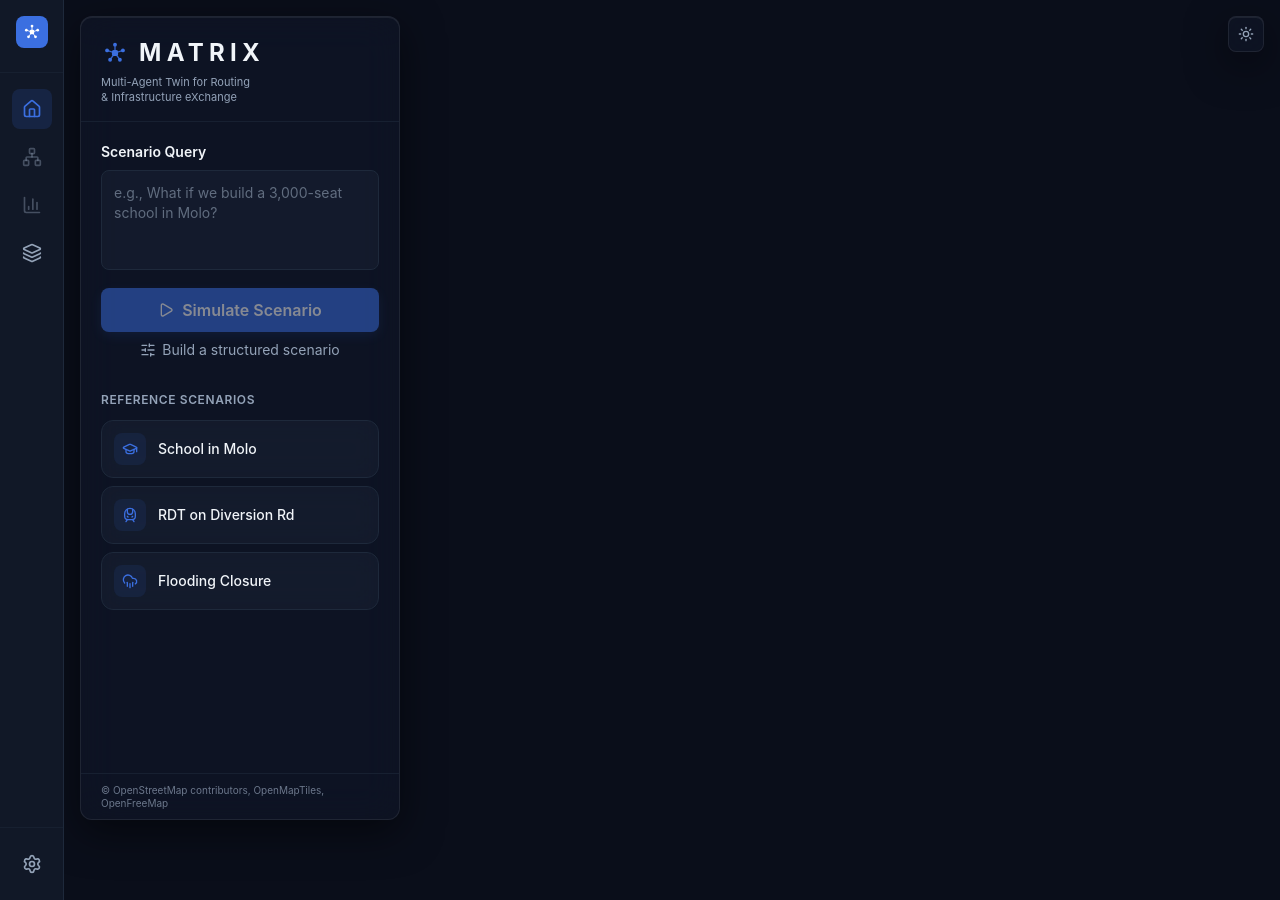
Scenario: MatrixCockpit scenario submission › shows a loading state while the request is in flight
The image size is (1280, 900).
Type "Close one lane on Diversion Road" into the text box labelled "Scenario Query" at (240, 220), box [101,170,379,270]
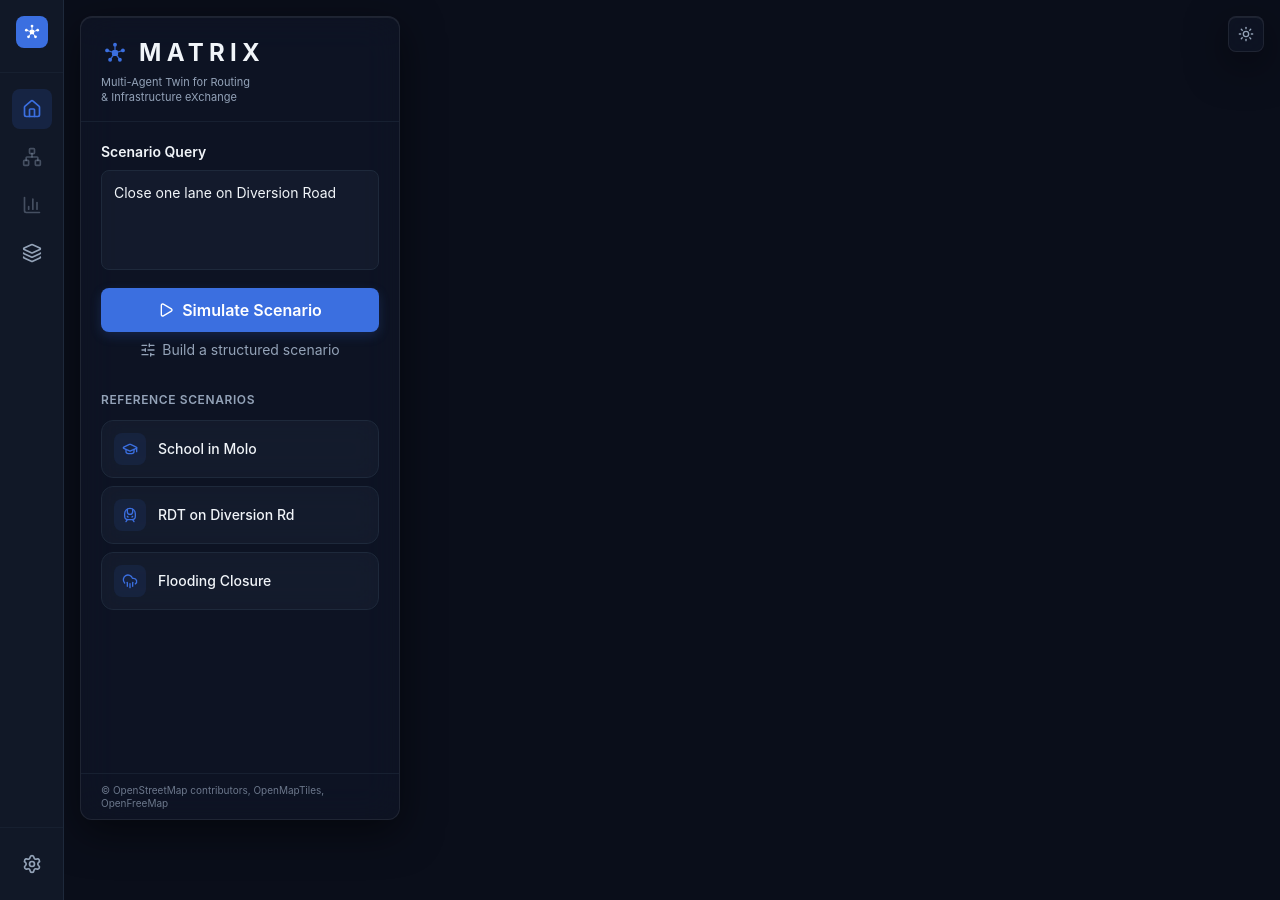
Click the button "Simulate Scenario" at (240, 310), box [101,288,379,332]
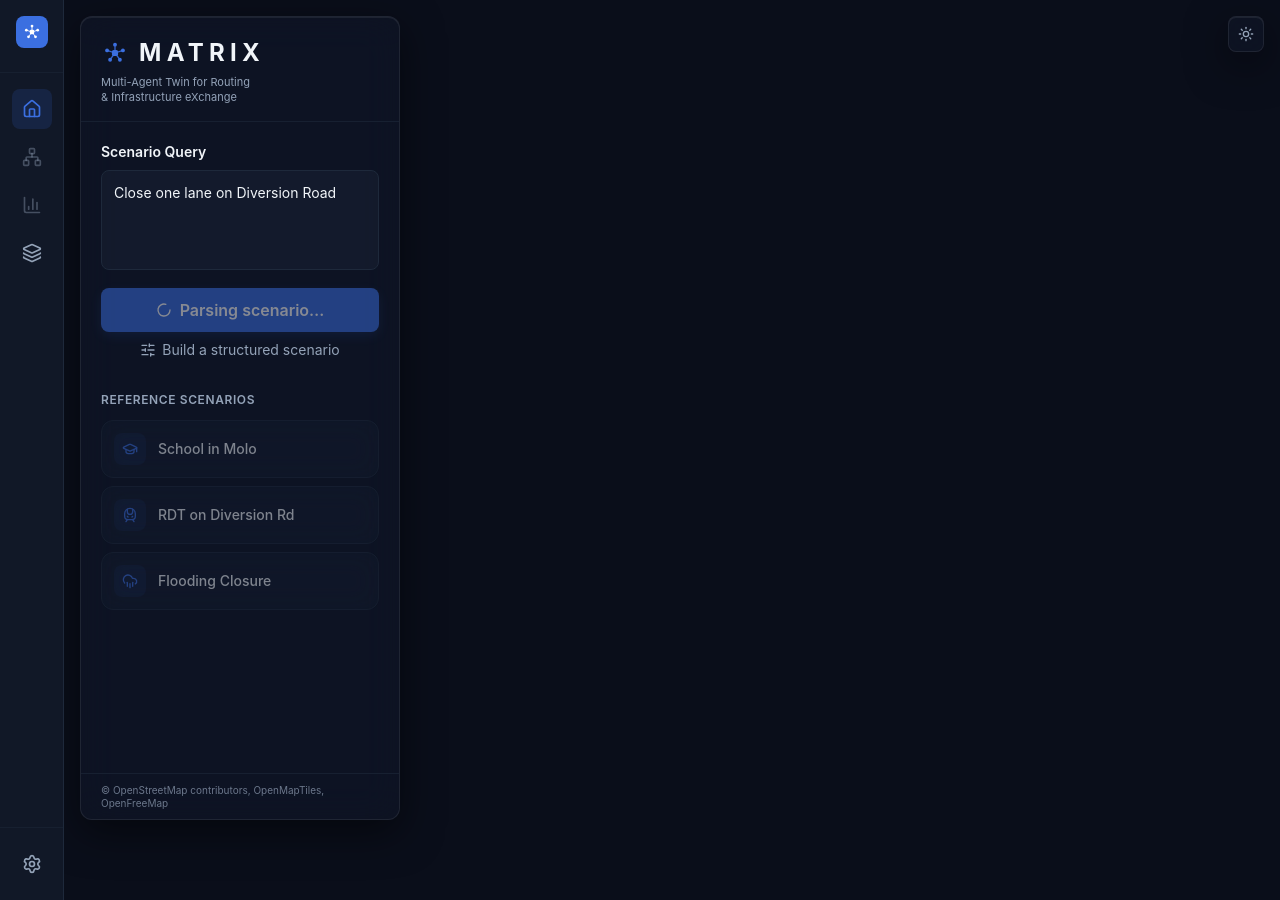
Expected: the button "Parsing scenario…" is disabled, [101,288,379,332]
Expected: the button "School in Molo" is disabled, [101,420,379,478]
